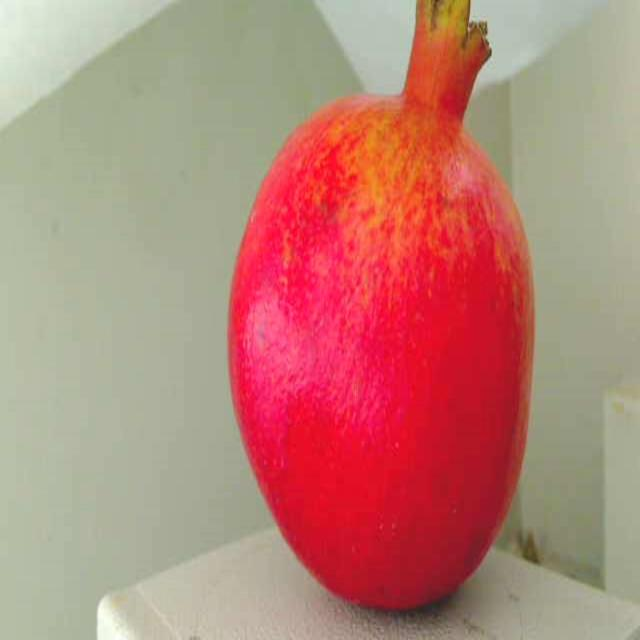pomegranate: (212, 0, 544, 613)
